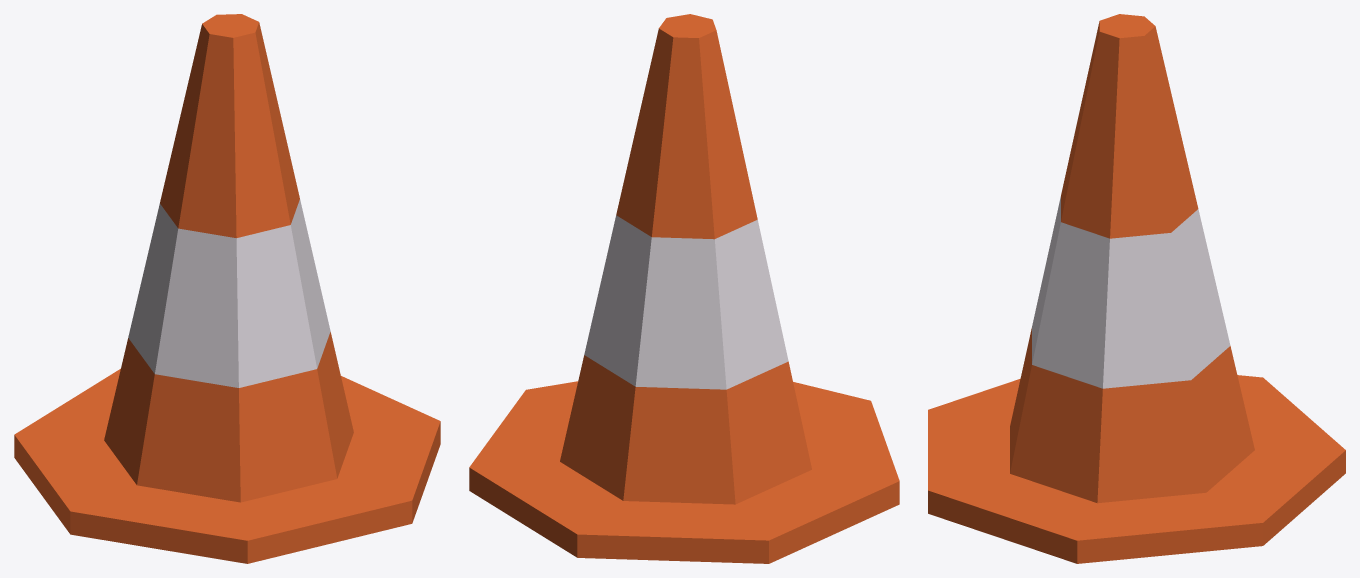
3 renders of one model, left to right at view 1: azimuth 30°, elevation 25°; view 2: azimuth 150°, elevation 25°; view 3: azimuth 270°, elevation 25°, orthographic.
Visible parts, largest first — view 1: cone; view 2: cone; view 3: cone.
Part boxes in pixels (left/top/right/bottom): cone: left=14, top=14, right=440, bottom=563; cone: left=469, top=14, right=899, bottom=563; cone: left=928, top=14, right=1345, bottom=563.
Size of the model in its own units: 123 by 141 by 120.
